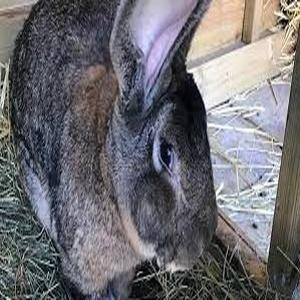rabbit: (12, 0, 218, 300)
